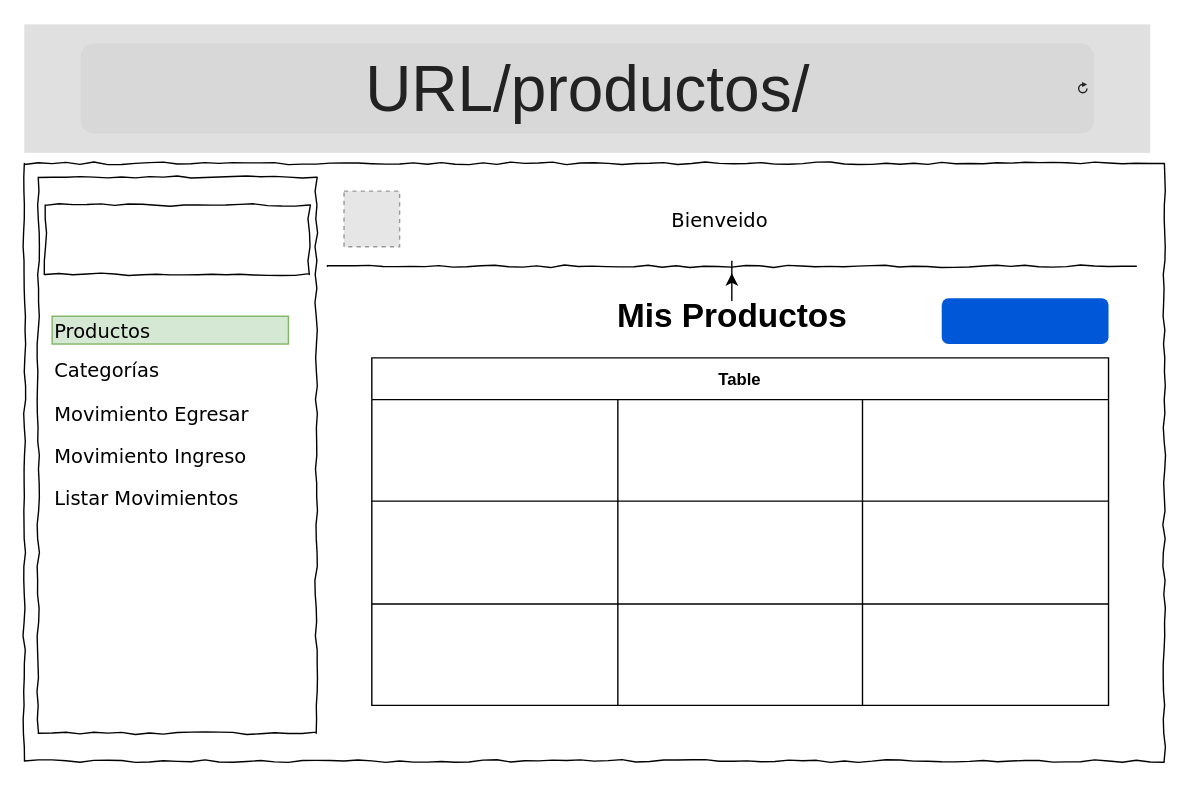
This 1188x785 diagram has some shape labels left out. Grey dashed boxes stand in for pictures. The centre of each missing label's shape, as x and y in pixels:
LOGO: the point at 176,239
Nuevo Producto: the point at 1024,320
